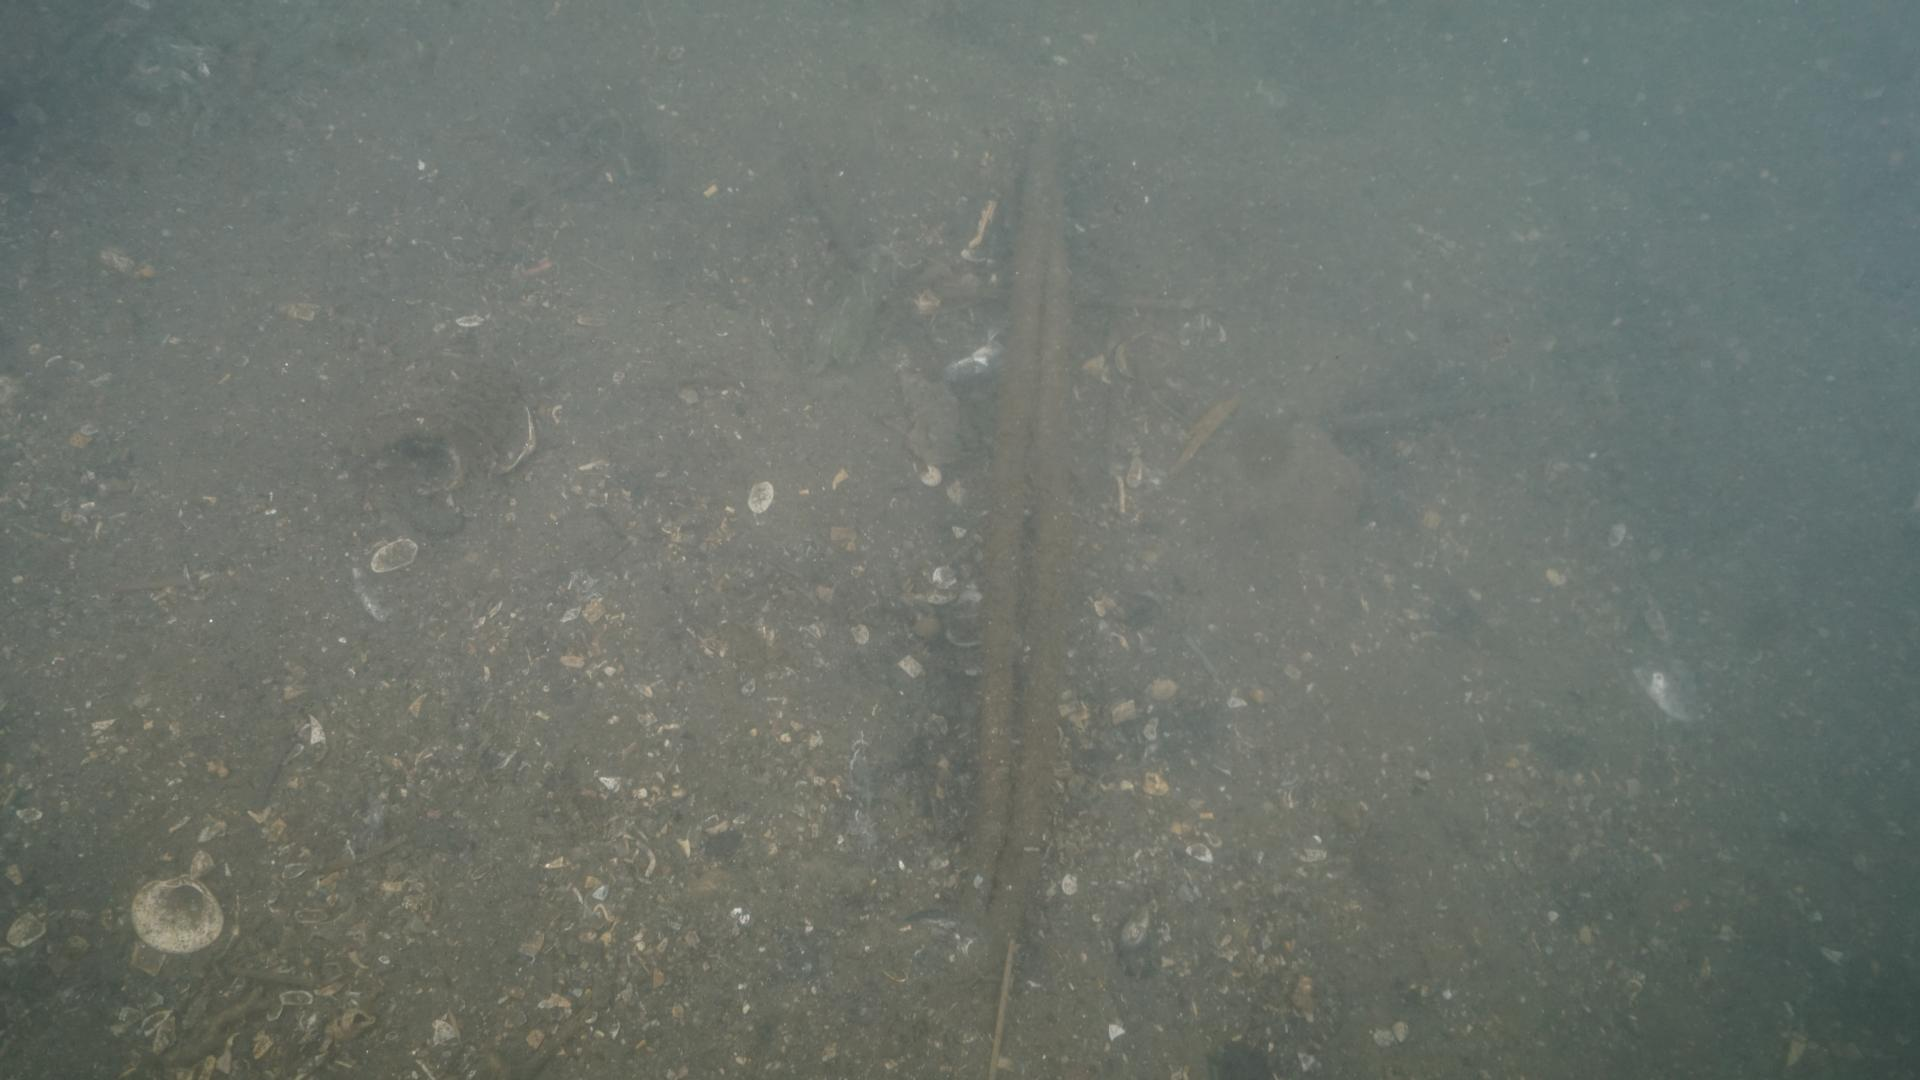bundle of ropes: (959, 99, 1073, 955)
